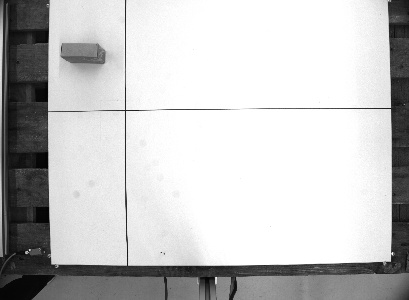b1: (58, 40, 108, 65)
